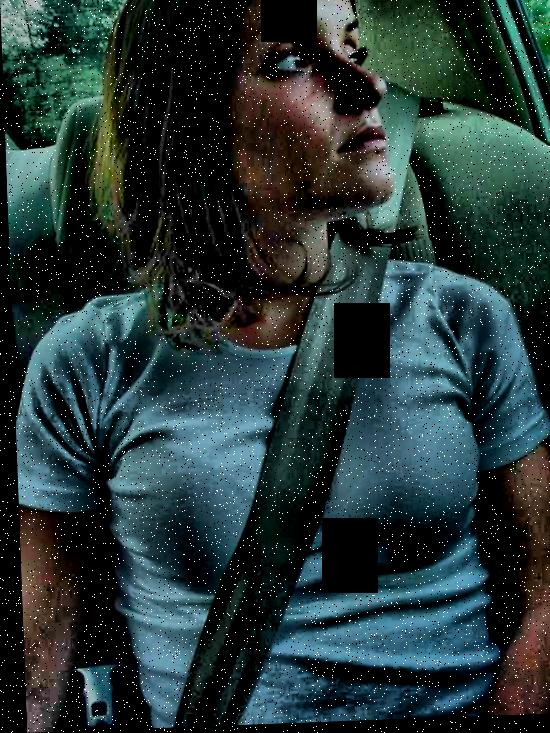seatbelt: (150, 69, 454, 718)
